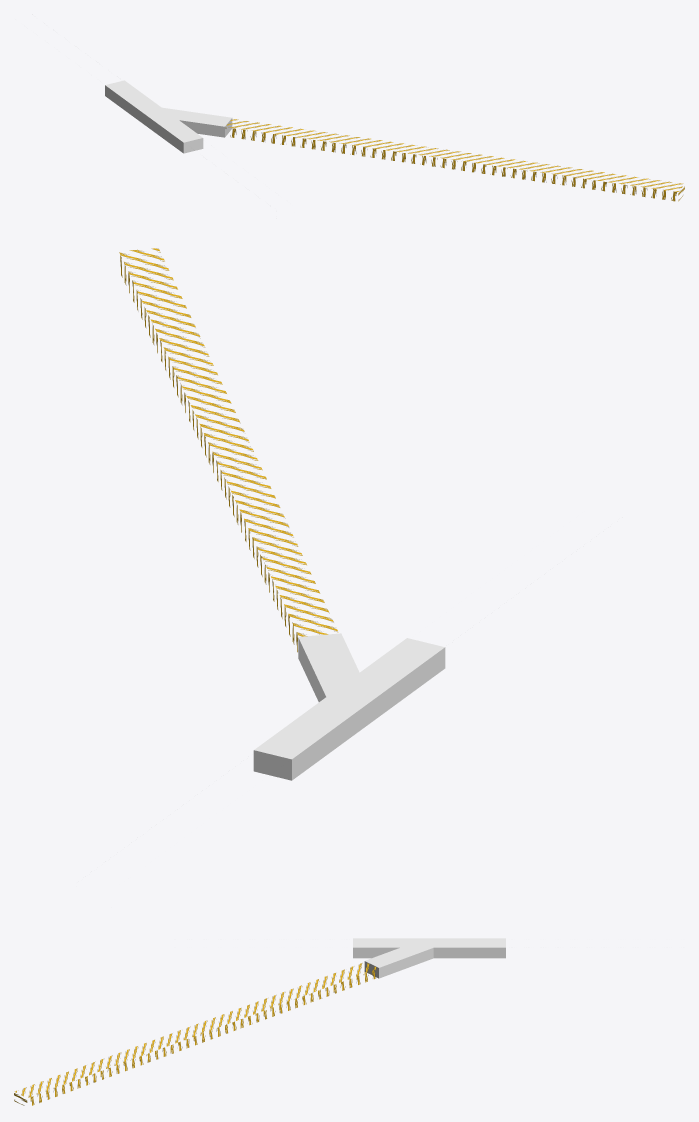
The picture shows the model from 3 angles, top to bottom: view 1: azimuth 30°, elevation 25°; view 2: azimuth 150°, elevation 25°; view 3: azimuth 270°, elevation 25°; orthographic projection. The views are drawn at different scales.
Visible parts, largest first — view 1: Mesh_6, Mesh_2, Mesh_3, Mesh_1; view 2: Mesh_6, Mesh_1, Mesh_2, Mesh_3; view 3: Mesh_6, Mesh_1, Mesh_3, Mesh_2.
Boxes of the visible parts, x1=… form: Mesh_6: x1=225, y1=119, x2=684, y2=201; Mesh_2: x1=144, y1=109, x2=203, y2=153; Mesh_3: x1=151, y1=107, x2=232, y2=137; Mesh_1: x1=105, y1=80, x2=163, y2=124; Mesh_6: x1=119, y1=248, x2=338, y2=652; Mesh_1: x1=253, y1=694, x2=368, y2=780; Mesh_2: x1=331, y1=638, x2=445, y2=723; Mesh_3: x1=298, y1=633, x2=369, y2=701; Mesh_6: x1=14, y1=963, x2=376, y2=1105; Mesh_1: x1=429, y1=938, x2=505, y2=958; Mesh_3: x1=364, y1=939, x2=433, y2=978; Mesh_2: x1=353, y1=938, x2=429, y2=958.
Size of the model in its own units: 73.66 by 2.3 by 131.
Materials: 4 (3 with a texture image).
